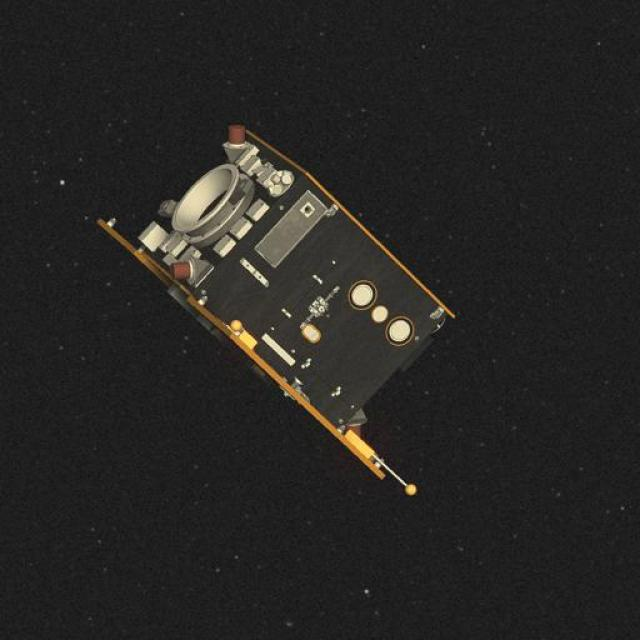proba_2: (81, 108, 482, 510)
